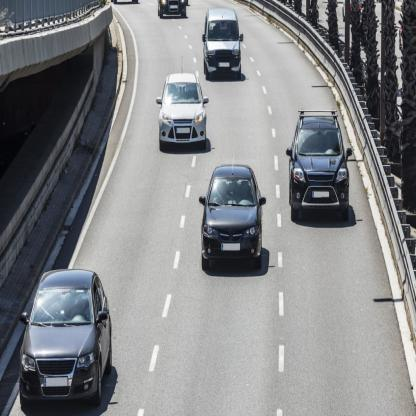car: (23, 271, 116, 414), (199, 160, 268, 273), (289, 111, 357, 225), (155, 72, 213, 154), (204, 10, 245, 86)
